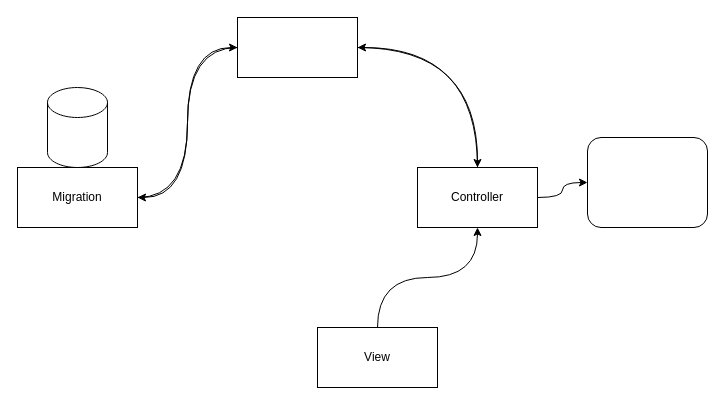
Image size: 725x405. Some labels were removed from this diagram. Each missing label, with the box of its shape:
- index() - create() - edit(): (586, 136, 708, 228)
Model: (236, 16, 358, 78)
